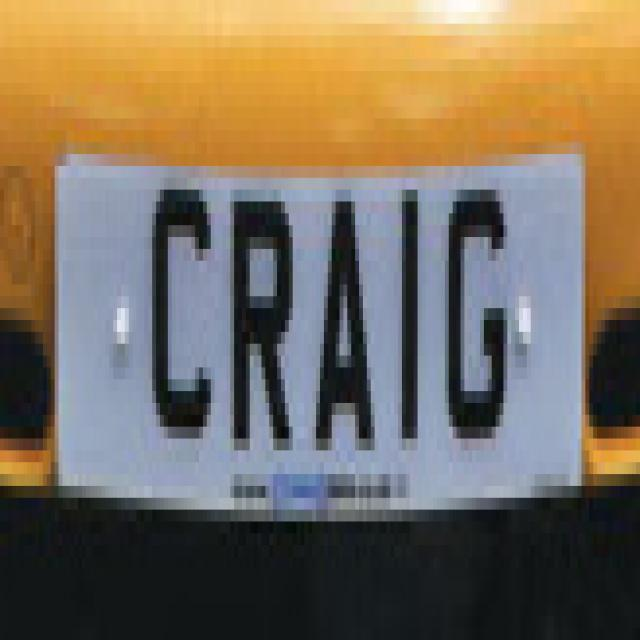1: (388, 167, 428, 464)
A: (308, 178, 381, 466)
C: (148, 168, 220, 473)
G: (444, 165, 512, 453)
R: (225, 172, 297, 462)
